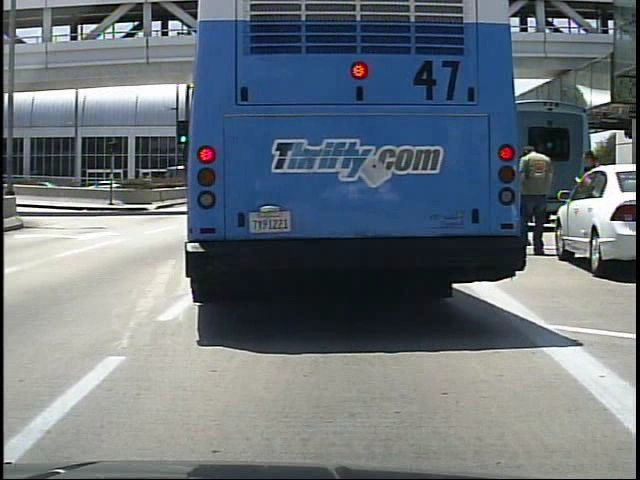person: (520, 142, 553, 257), (579, 147, 607, 258)
